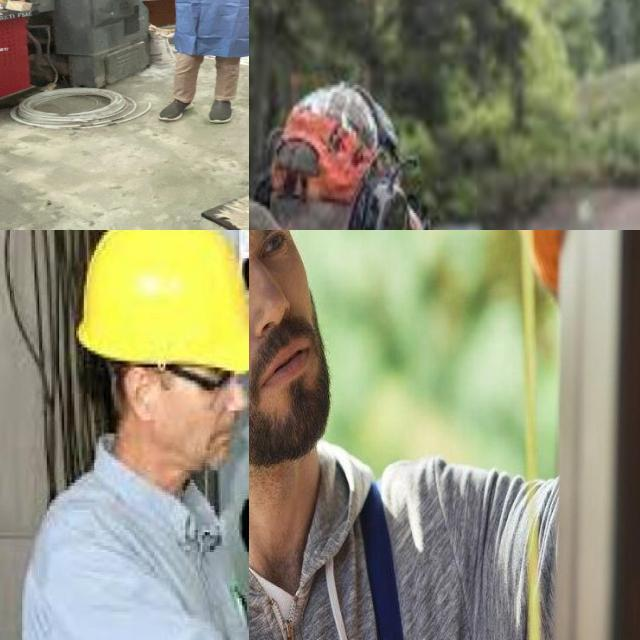Ear-protection: (264, 84, 436, 230)
No_Ear-Protection: (249, 230, 336, 489), (113, 365, 161, 437)
face_nomask: (149, 373, 247, 486)
head_helmet: (78, 230, 249, 373)
person: (125, 0, 249, 134)
shoes: (151, 94, 198, 124), (203, 94, 236, 126)
